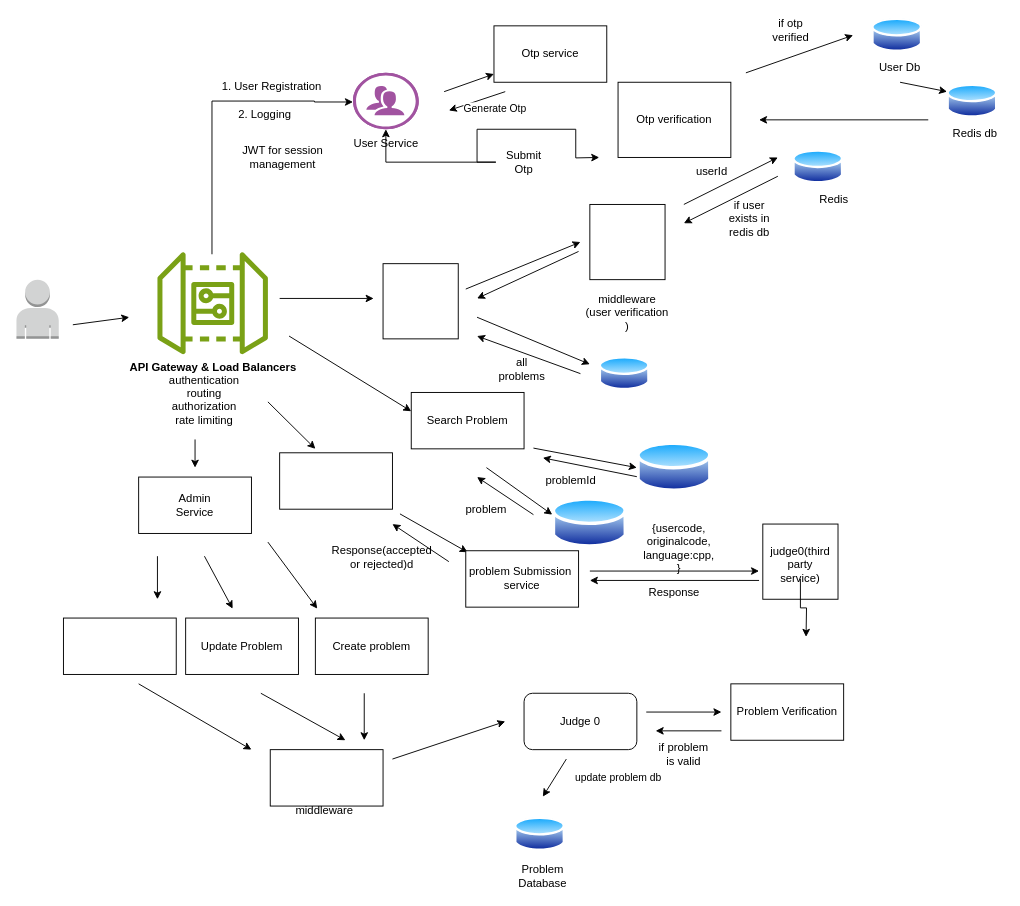
Image size: 1020x906. Some labels were removed from this diagram. Each missing label, with the centre of its shape:
admin Id verification: point 326,777
Delete problem: point 119,645
Problem Submission: point 335,480
Users: point 37,309
view All problems: point 420,301
